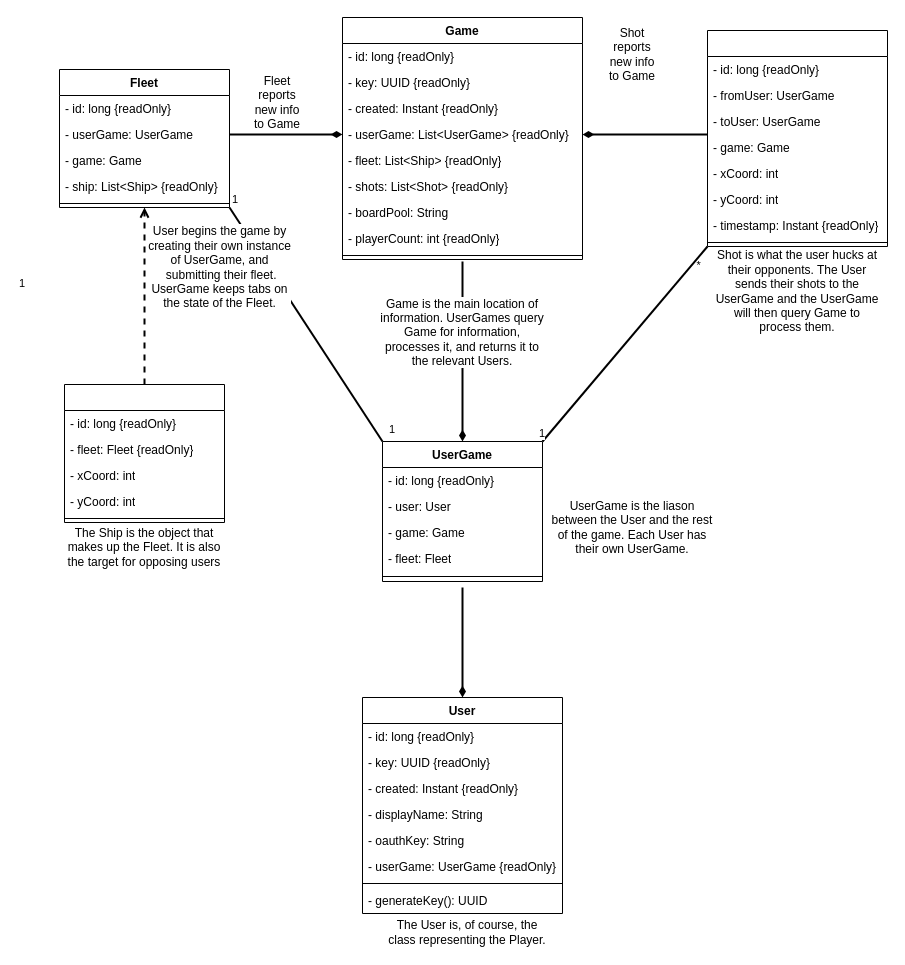
This 905x965 diagram has some shape labels left out. Here are the shapes that lost their labels. From the top down, the box of each, then its label:
(706, 30, 888, 246): Shot
(64, 384, 224, 522): Ship
